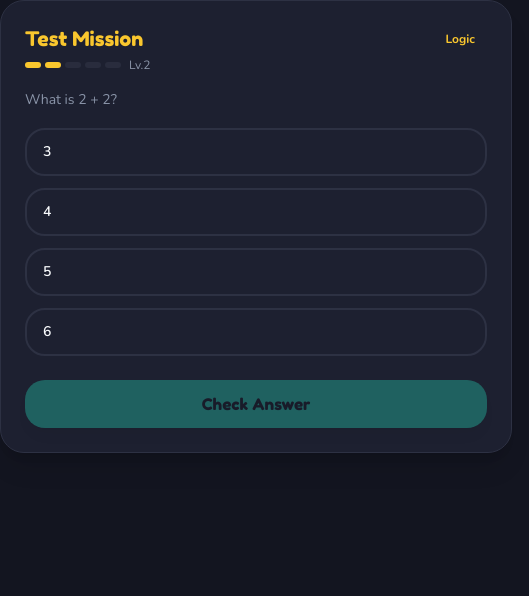
Test: MissionCard › shows Try Again button after wrong answer
The image size is (529, 596).
Click the button "3" at (47, 151), box left=25, top=128, right=487, bottom=176
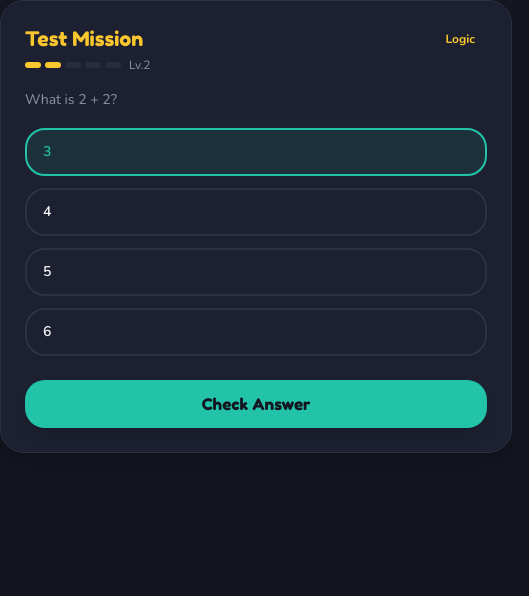
Click the button "Check Answer" at (256, 404), box left=25, top=380, right=487, bottom=428
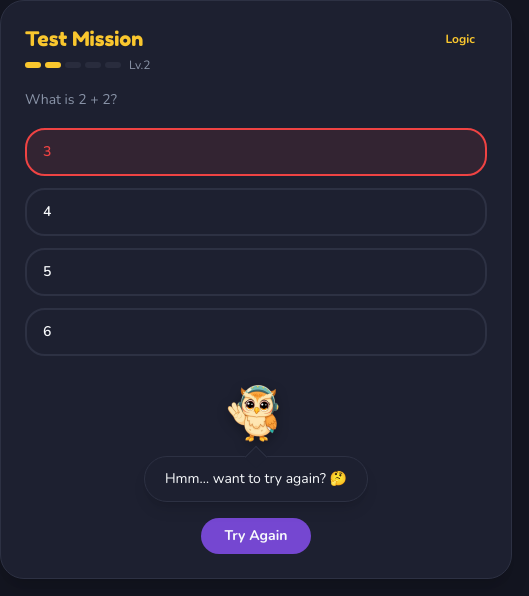
Check: the button "Try Again" is shown, box left=200, top=518, right=311, bottom=554
